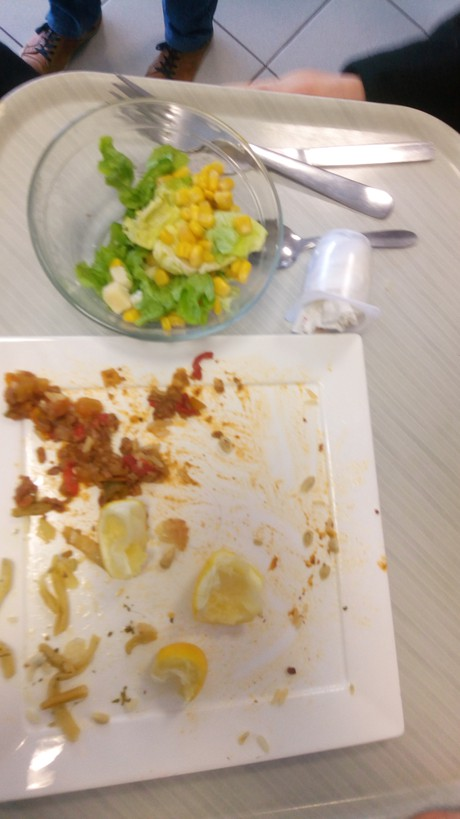orga: (77, 144, 258, 343), (1, 358, 206, 507), (34, 559, 88, 758), (194, 558, 275, 638), (139, 636, 219, 709)
trash: (304, 235, 381, 334)
